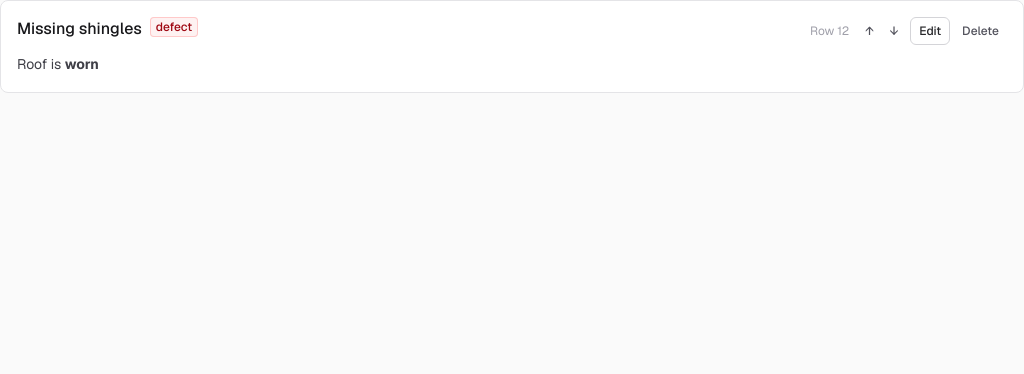
Test: CommentCard — editing › opens simple comments in the visual editor
Click the button "Edit": (930, 31) [910, 17, 950, 45]
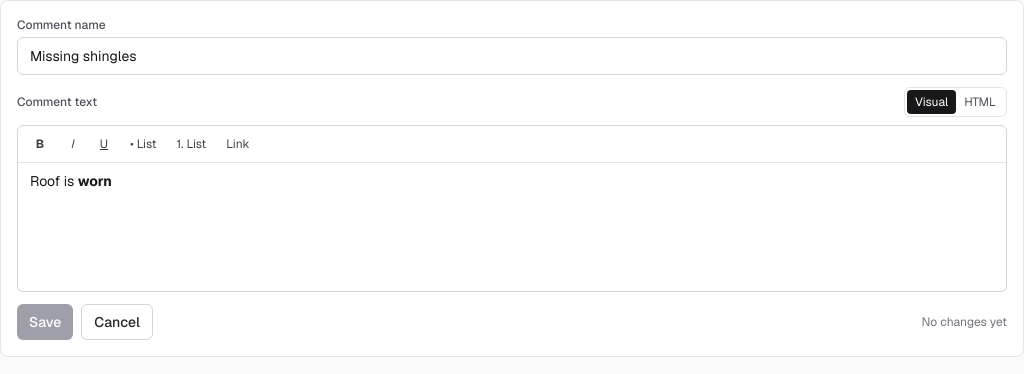
Now the element named "Formatting" is shown, box [18, 126, 1006, 163]
